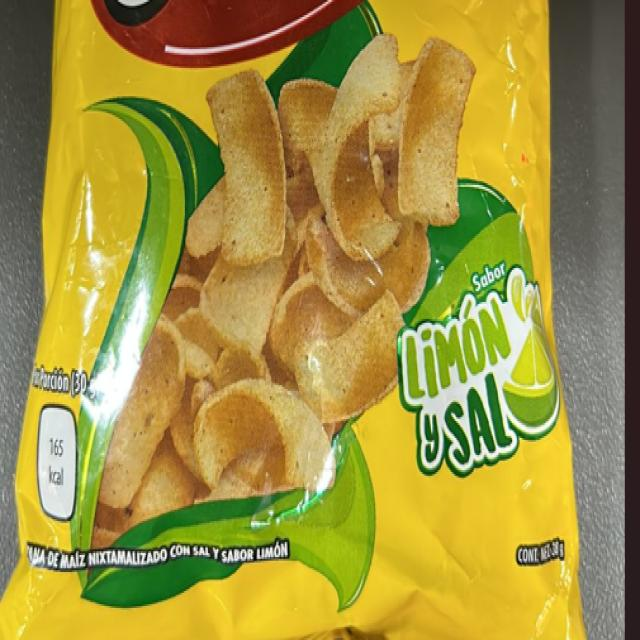fritosLimon: (54, 3, 551, 632)
